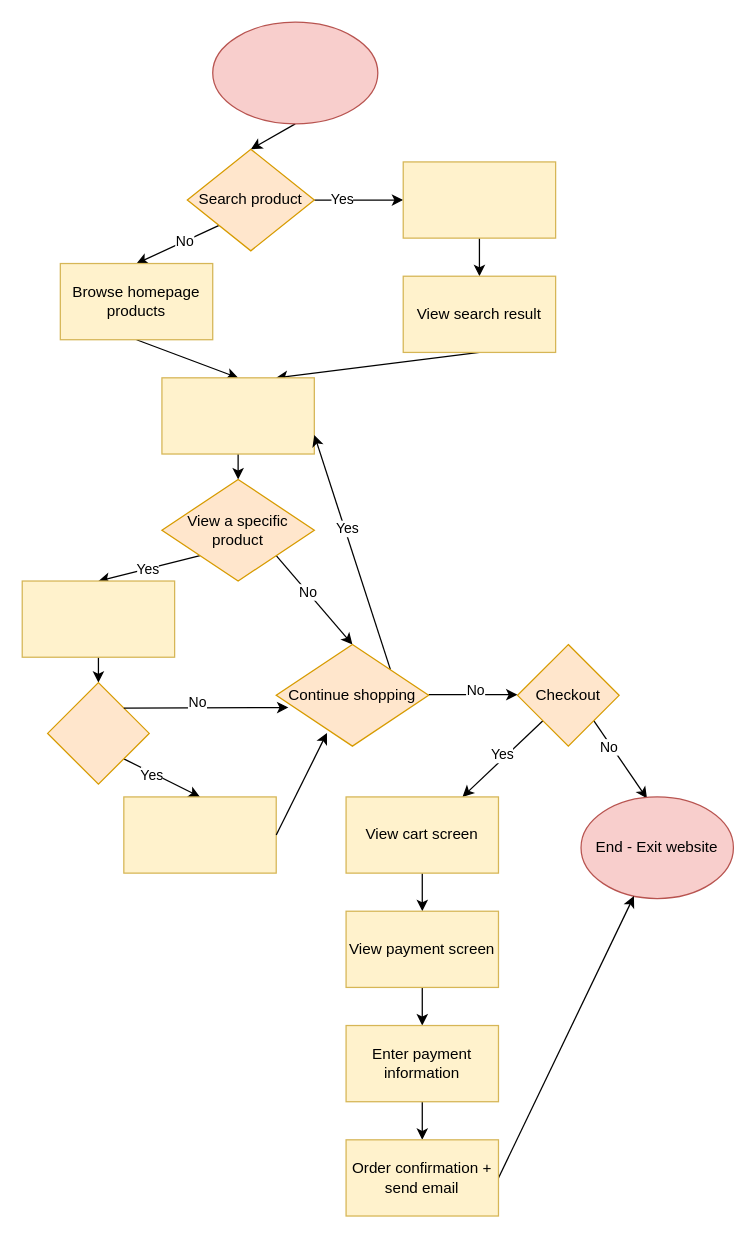
The diagram is 756 pixels wide and 1238 high, and some of its shapes have lost their labels. The centre of each missing label's shape, as x and y in pixels:
Add item to cart: the point at 97,732
Looking for products: the point at 237,415
Notify user item is added to cart: the point at 199,834
Open product page: the point at 98,618
Provide Input box to search: the point at 479,199
Start - Enter Website: the point at 294,72
